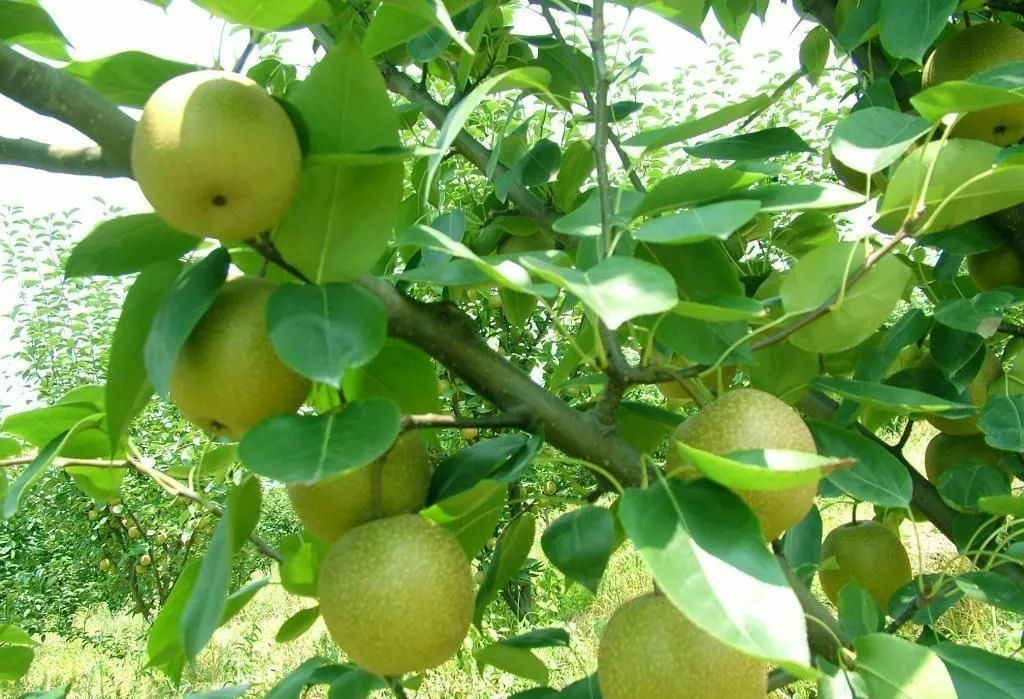pear: (130, 70, 299, 238), (156, 275, 317, 437), (314, 512, 473, 676), (664, 388, 818, 541), (285, 406, 430, 539), (600, 588, 769, 699), (921, 20, 1024, 150), (817, 518, 913, 614)
